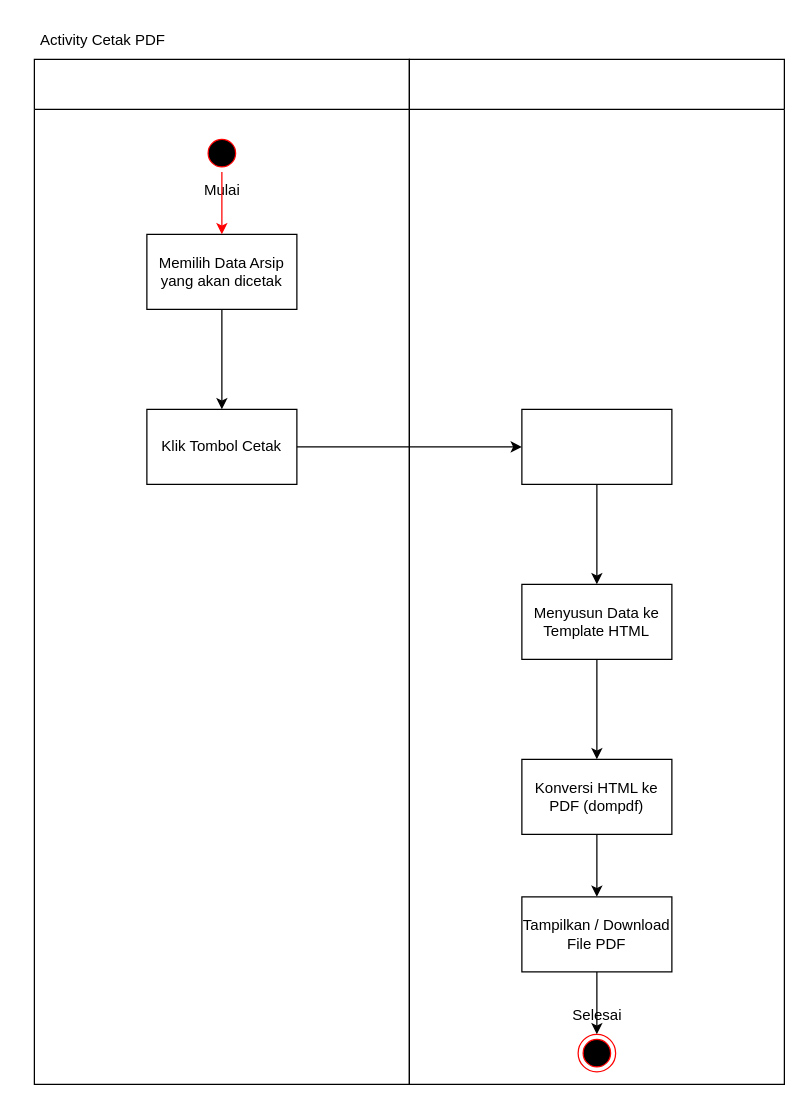
The diagram is 806 pixels wide and 1106 high, and some of its shapes have lost their labels. Each missing label, with the box of its shape:
Admin dan Koor: (33, 58, 409, 1084)
Mengambil Data dari Database: (521, 408, 672, 484)
Sistem: (408, 58, 784, 1084)
